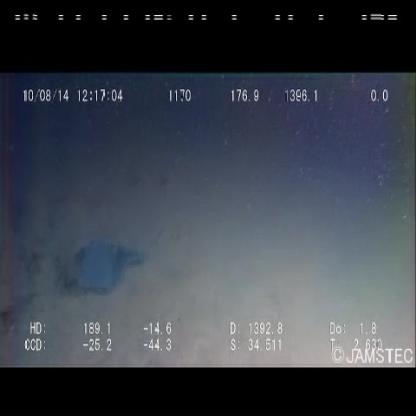Rác: (74, 238, 152, 300)
